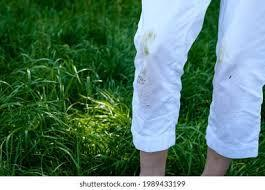earth: (139, 62, 152, 105), (141, 33, 152, 55)
